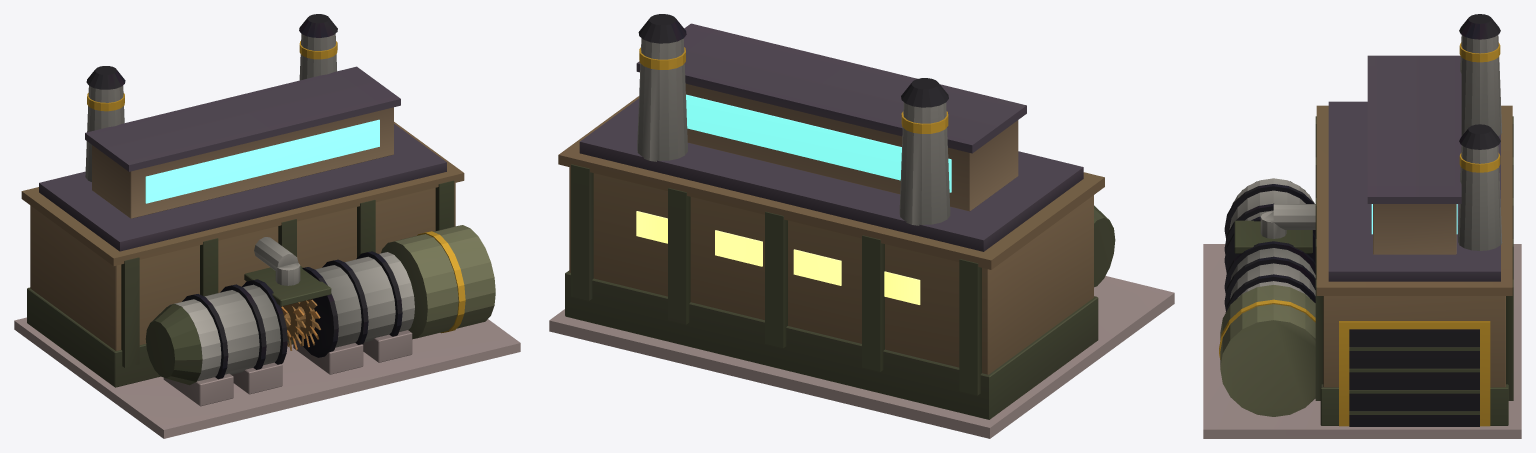
Rendered from kit.dispersal-turbine-hall.glb.
The picture shows the model from 3 angles, left to right: view 1: azimuth 30°, elevation 25°; view 2: azimuth 150°, elevation 25°; view 3: azimuth 270°, elevation 25°; orthographic projection. The views are drawn at different scales.
Visible parts, largest first — view 1: body, object 1; view 2: body; view 3: body.
Part boxes in pixels (box(x1,y1,x2,y2)): body: box(14, 14, 520, 438); object 1: box(281, 299, 320, 350); body: box(549, 14, 1174, 438); body: box(1203, 14, 1521, 438).
Size of the model in its own units: 16.8 by 11.5 by 12.2.
